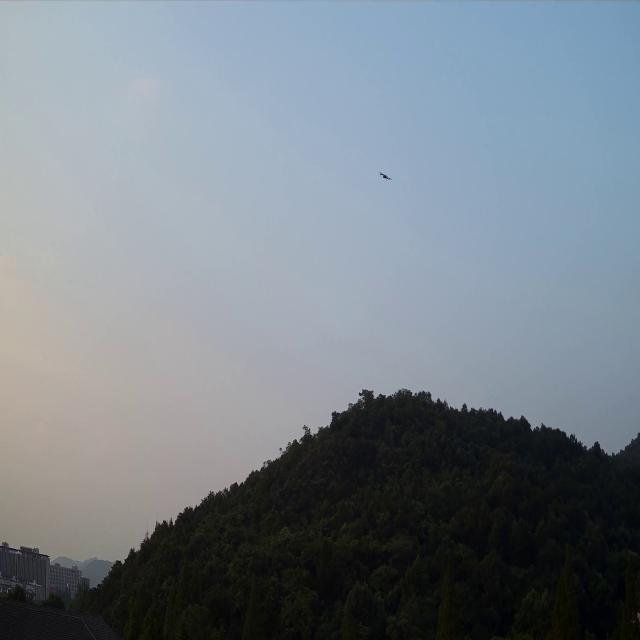UAV: (377, 170, 393, 183)
